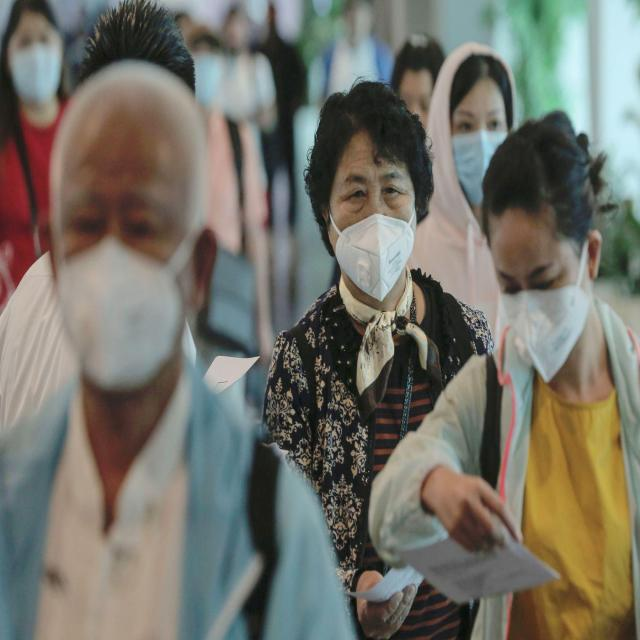face: (49, 129, 205, 399), (494, 198, 600, 383), (323, 132, 425, 302), (445, 60, 520, 212), (4, 18, 64, 106), (399, 65, 437, 136), (190, 42, 223, 106), (344, 4, 374, 46), (223, 17, 250, 62)
